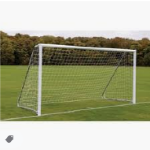goals: (18, 43, 139, 116)
